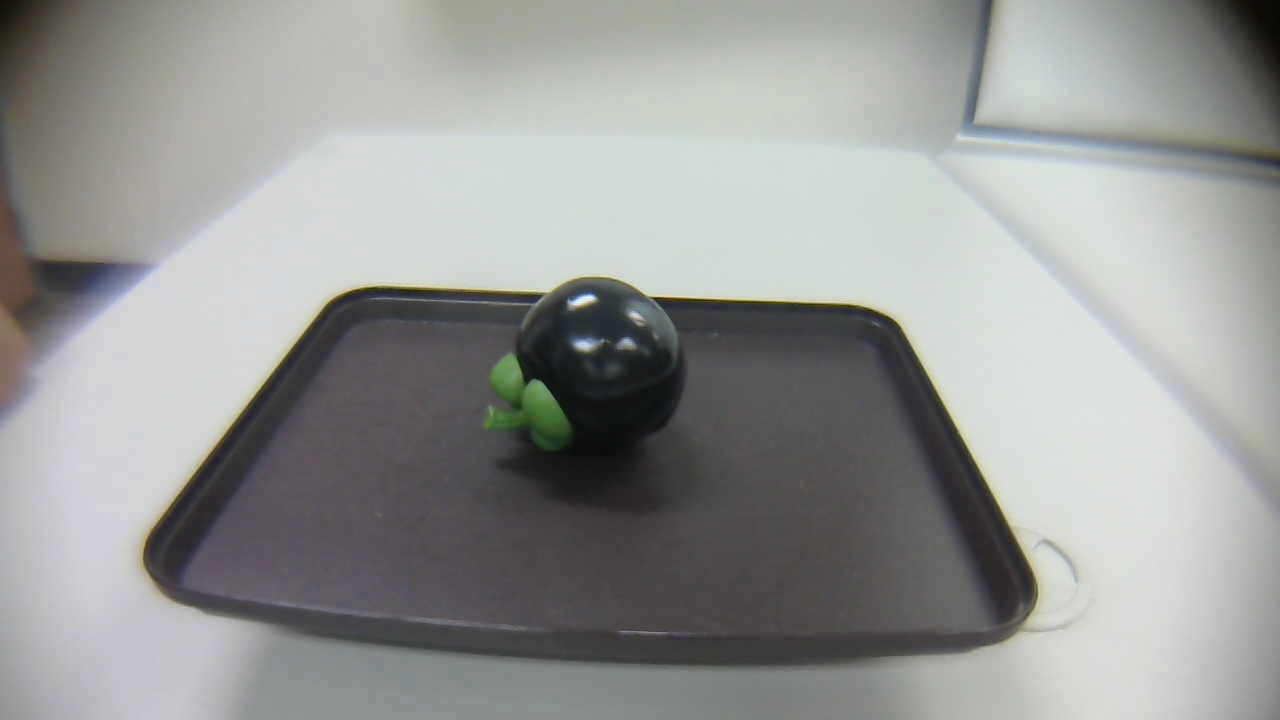mangosteen: (475, 266, 689, 469)
